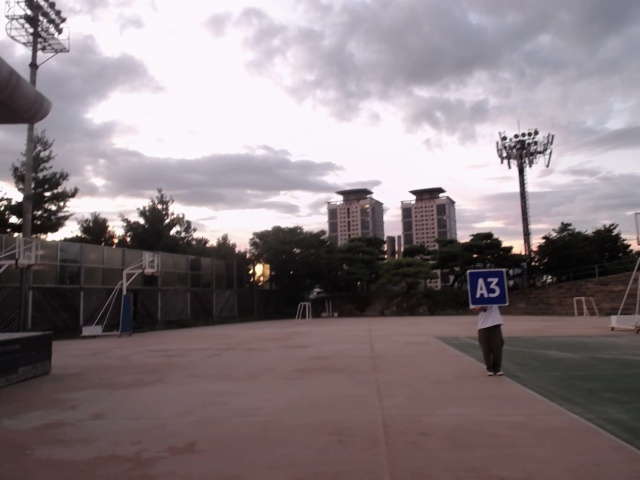delivery_a3: (467, 270, 508, 307)
